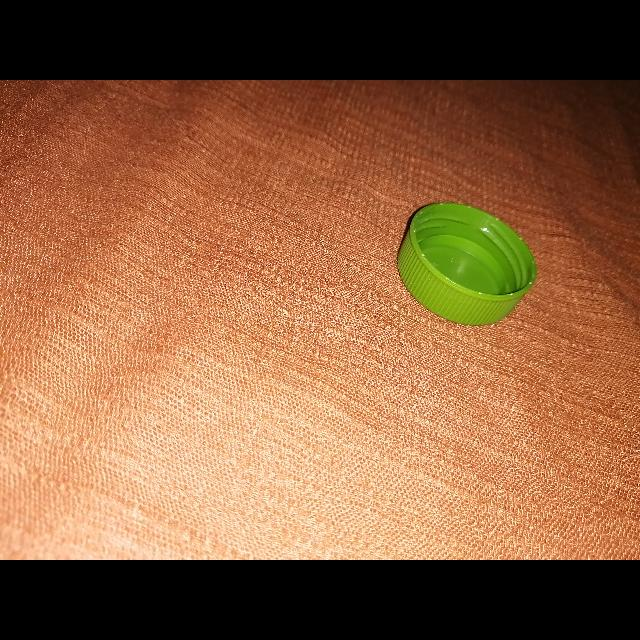plastic_bottle_cap: (396, 200, 536, 326)
